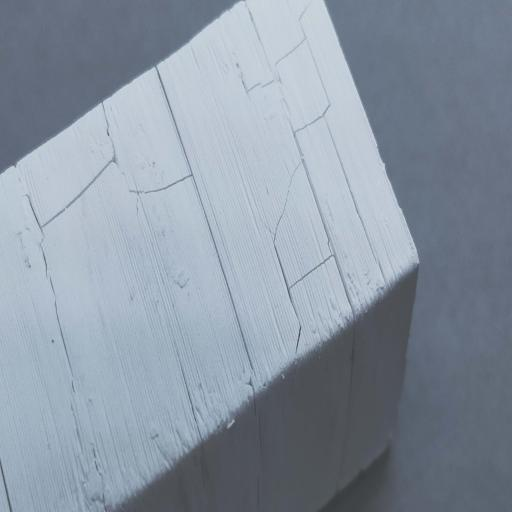cracks: (249, 157, 378, 397), (8, 98, 171, 276)
